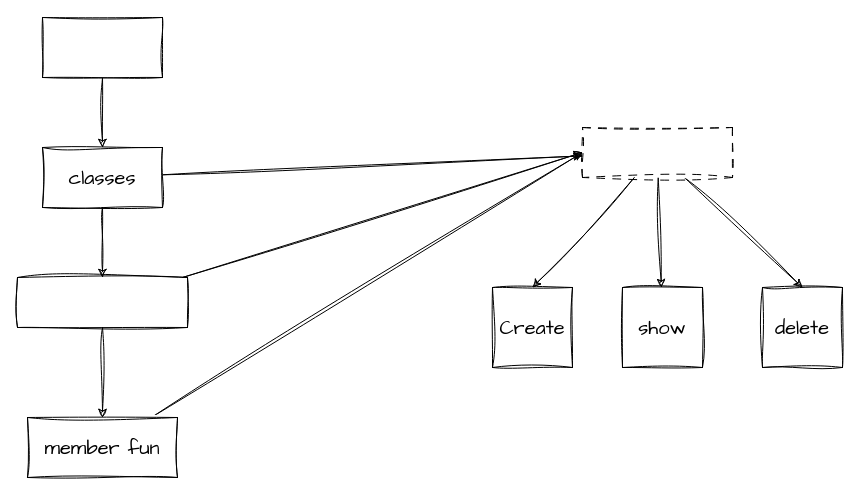
This 860x495 diagram has some shape labels left out. Each missing label, with the box of its shape:
inpust();: (582, 126, 732, 178)
main.cpp: (42, 16, 162, 78)
Protype_func: (16, 276, 188, 328)
